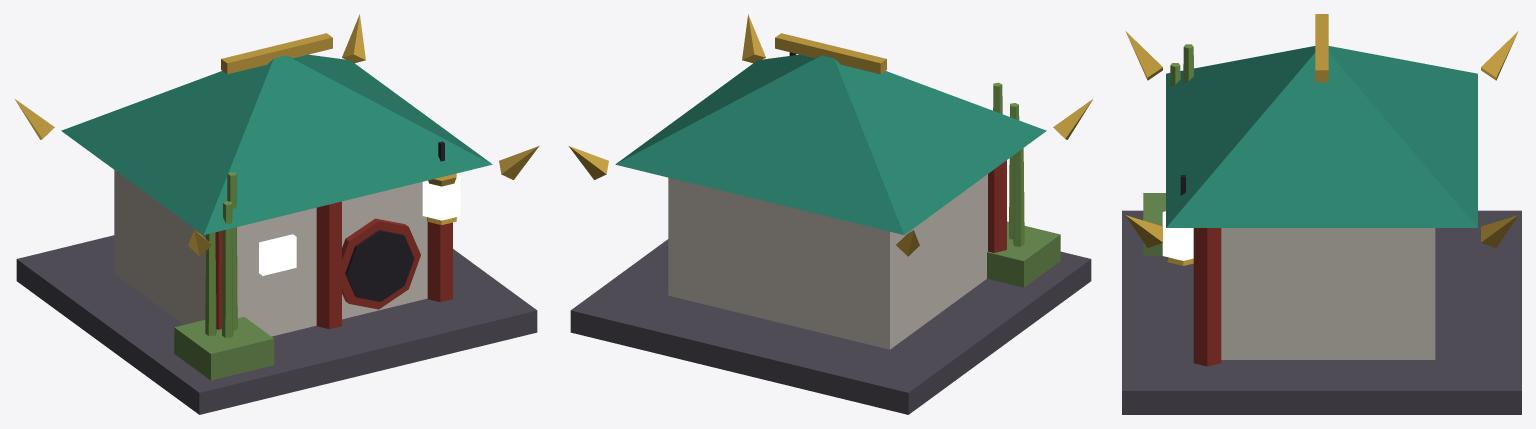
Rendered from house_t1.glb.
The picture shows the model from 3 angles, left to right: view 1: azimuth 30°, elevation 25°; view 2: azimuth 150°, elevation 25°; view 3: azimuth 270°, elevation 25°; orthographic projection. The views are drawn at different scales.
Parts seen in each view (by area): view 1: body, glow; view 2: body; view 3: body, glow.
Boxes of the visible parts, <box> form: body: <box>15,14,539,414</box>; glow: <box>259,175,460,275</box>; body: <box>568,14,1092,414</box>; body: <box>1122,14,1521,414</box>; glow: <box>1162,211,1193,260</box>.
Size of the model in its own units: 1.64 by 1.17 by 1.5.
